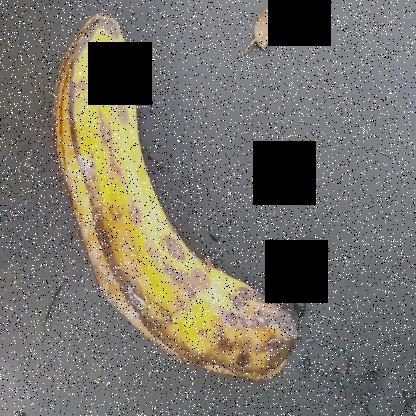rotten: (38, 17, 334, 415)
